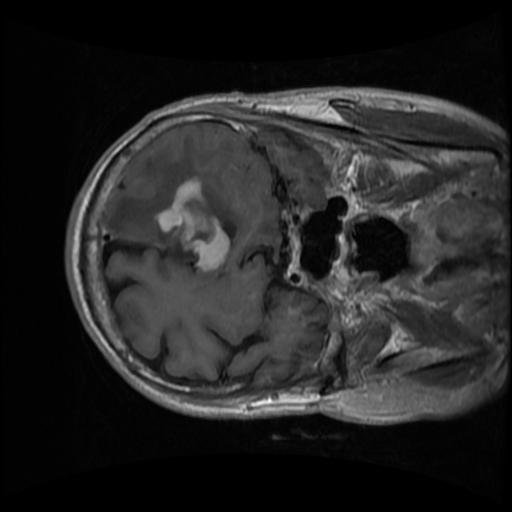glioma: (107, 136, 247, 271)
